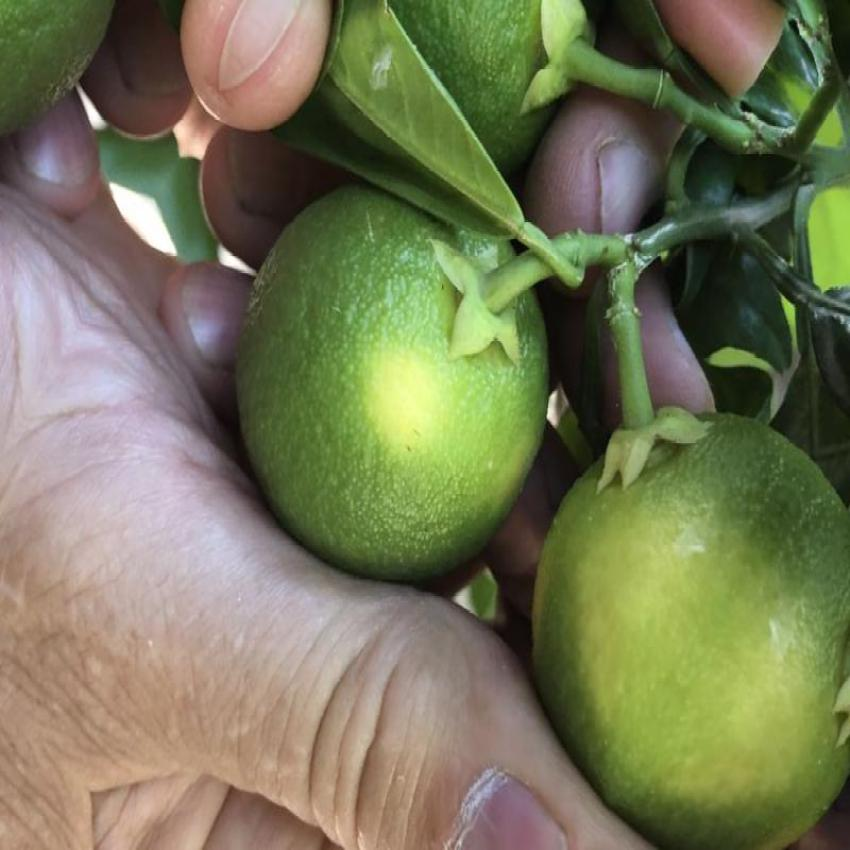Mal estado: (208, 182, 544, 608), (531, 396, 850, 843)
